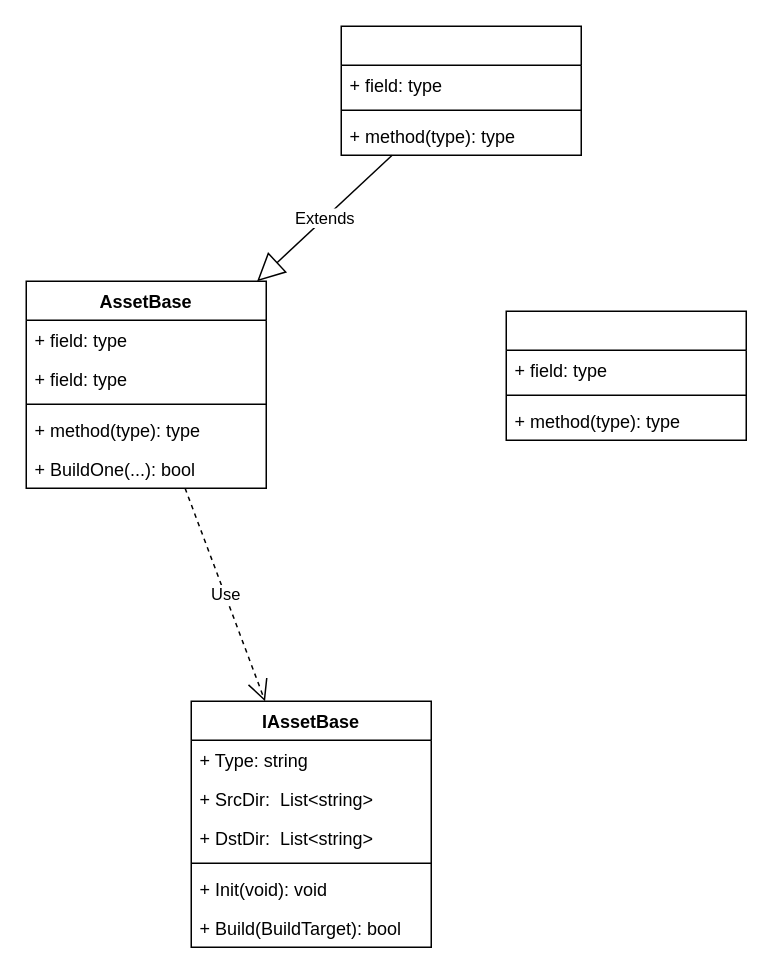
Some shapes in this 773 by 978 pixel diagram are drawn without their labels. The box of each missing label's shape, as (x1, y1, x2, y2) in pixels:
AssetBuildTool: (505, 310, 746, 440)
SoundBundleTool: (340, 25, 581, 155)
